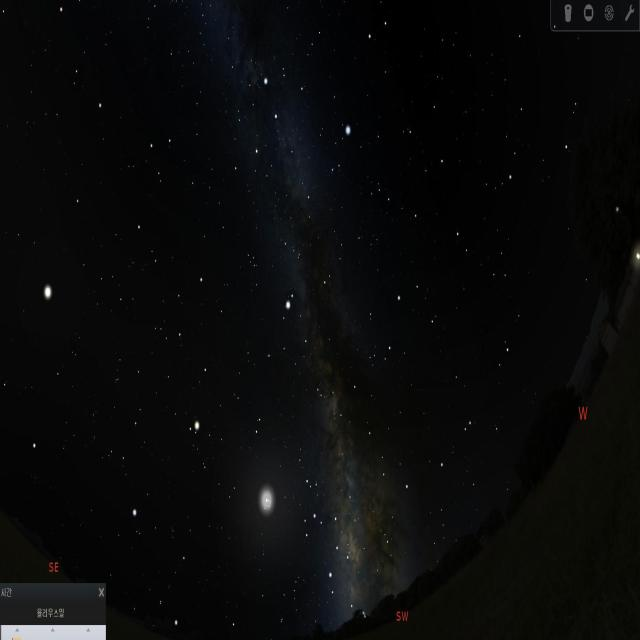aquila: (262, 291, 331, 414)
cygnus: (251, 69, 316, 230)
lyra: (324, 119, 356, 187)
moon: (247, 474, 286, 534)
sagittarius: (296, 497, 352, 596)
